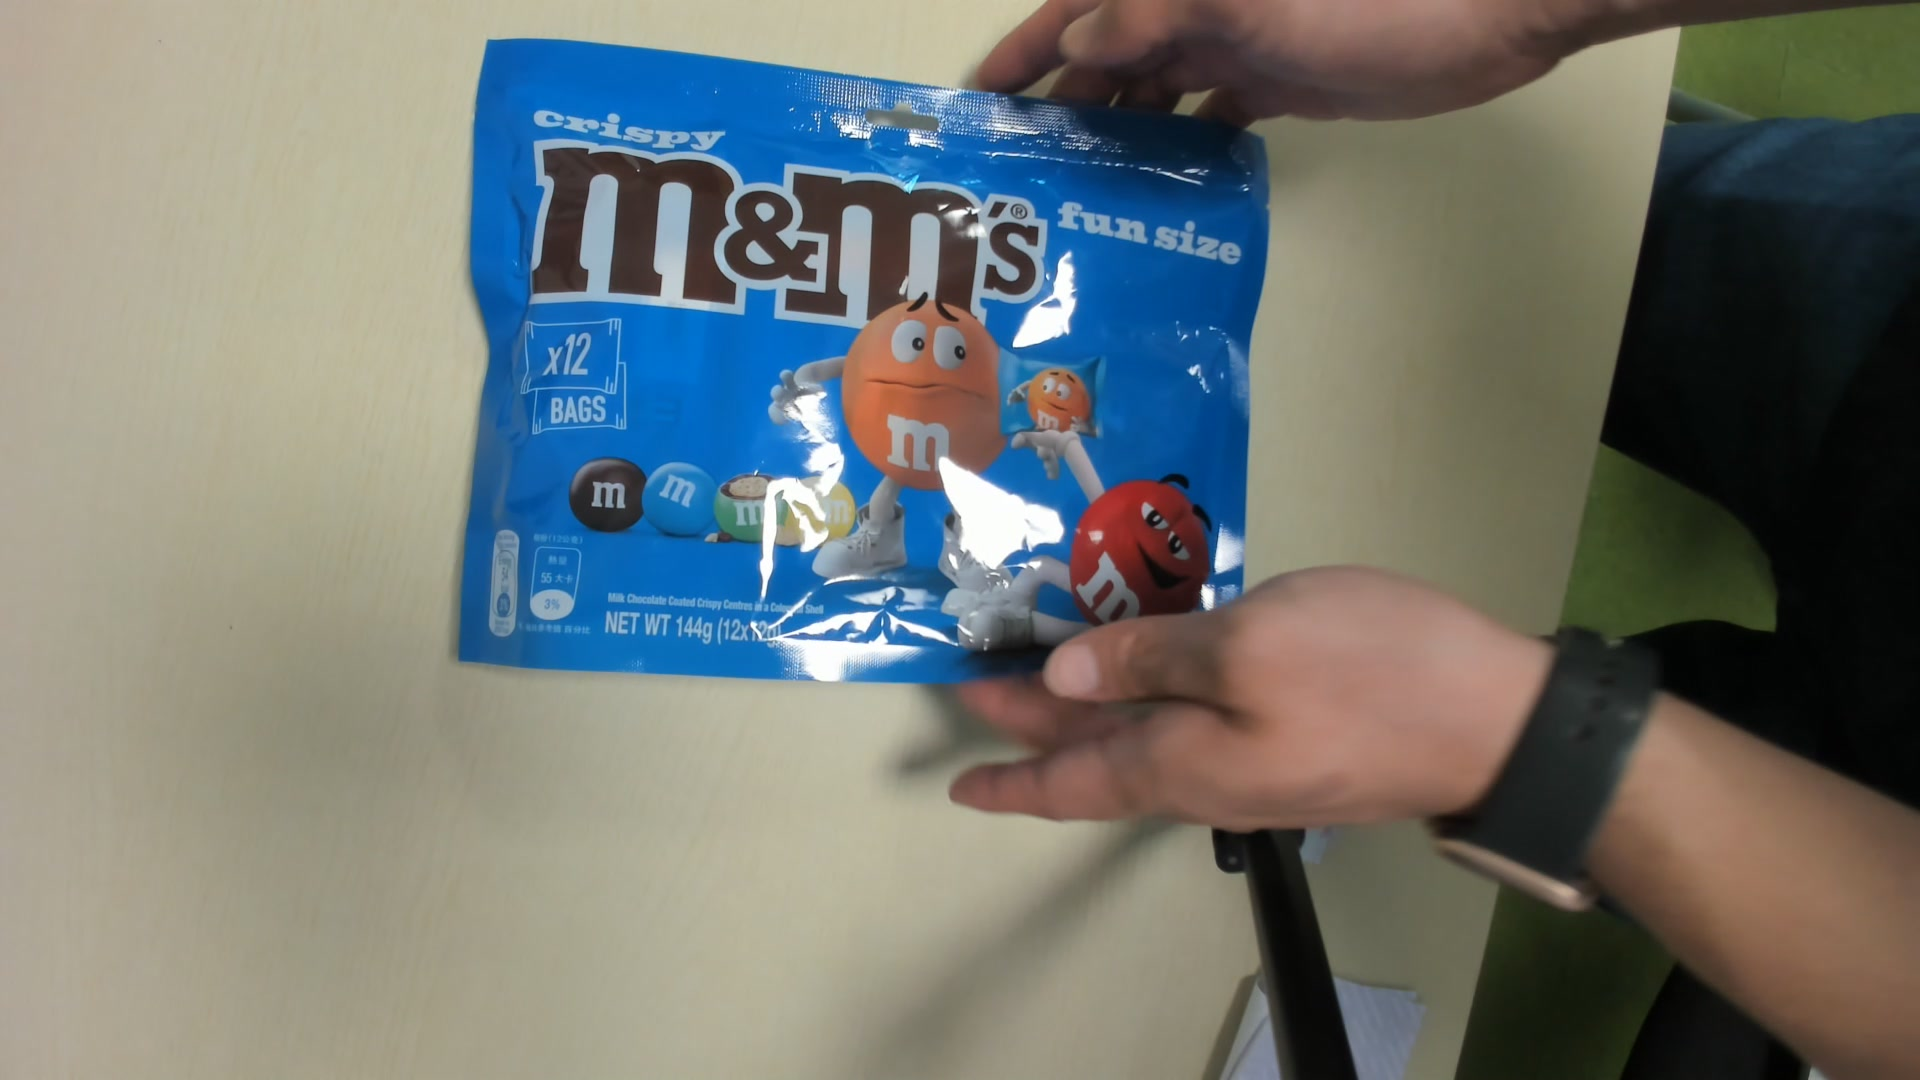SweetsChocolatesOthers_100-199g_Halal_Nonhealthy: (456, 42, 1271, 699)
